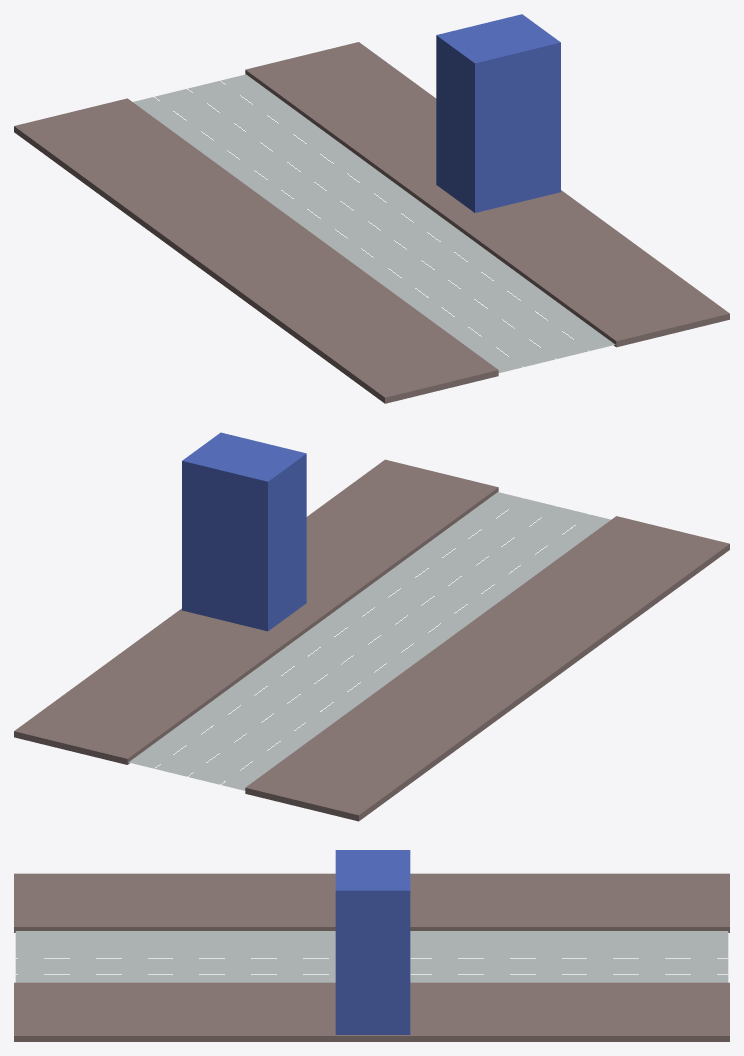
File: City.fbx
3 renders of one model, top to bottom at view 1: azimuth 30°, elevation 25°; view 2: azimuth 150°, elevation 25°; view 3: azimuth 270°, elevation 25°, orthographic. The views are drawn at different scales.
Visible parts, largest first — view 1: BuildingBase, Load, Building; view 2: BuildingBase, Load, Building; view 3: BuildingBase, Load, Building.
Part boxes in pixels (left/top/right/bottom): BuildingBase: left=14, top=42, right=729, bottom=403; Load: left=133, top=74, right=615, bottom=372; Building: left=436, top=14, right=560, bottom=212; BuildingBase: left=14, top=459, right=729, bottom=821; Load: left=128, top=492, right=610, bottom=790; Building: left=182, top=432, right=306, bottom=631; BuildingBase: left=14, top=873, right=729, bottom=1041; Load: left=15, top=931, right=728, bottom=982; Building: left=335, top=850, right=410, bottom=1034.
Bounding box in the file's own units: 594 × 256 × 1106.
